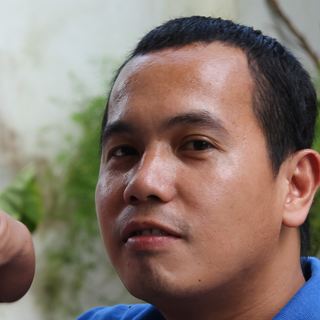eye: (175, 132, 222, 159), (109, 140, 145, 165)
